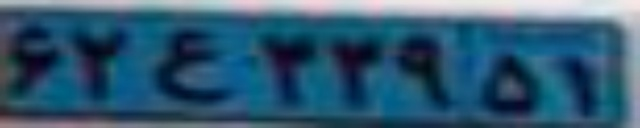1: (558, 53, 602, 118)
2: (71, 25, 130, 102)
3: (258, 35, 320, 106), (328, 37, 386, 108)
5: (480, 52, 541, 113)
6: (7, 24, 62, 101)
9: (394, 35, 456, 108)
ain: (156, 30, 231, 103)
